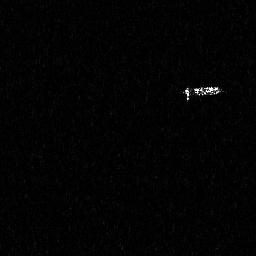ship: (180, 83, 226, 103)
